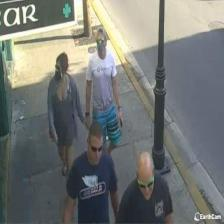person: (62, 122, 119, 224), (84, 27, 122, 169), (46, 53, 82, 182), (116, 152, 172, 224)
